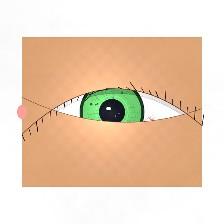pinguecula_lesion: (41, 107, 75, 134)
